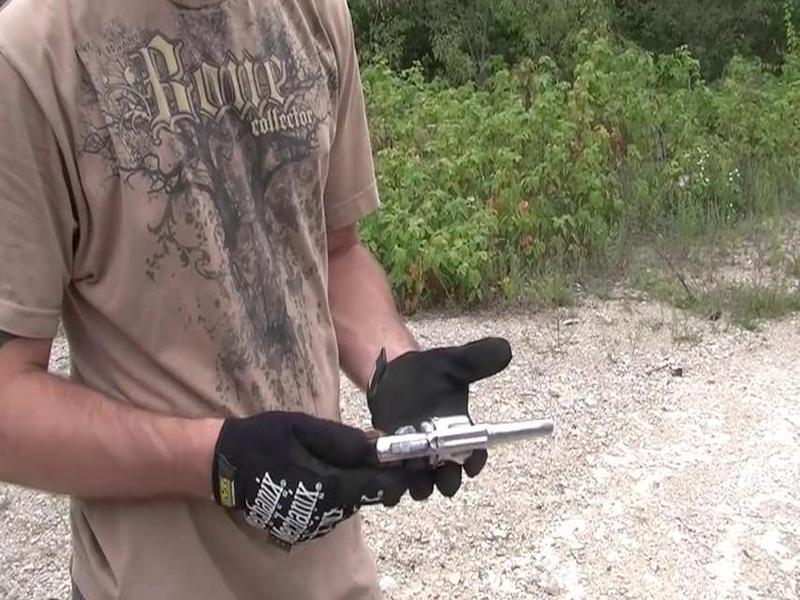Revolver: (339, 404, 565, 494)
